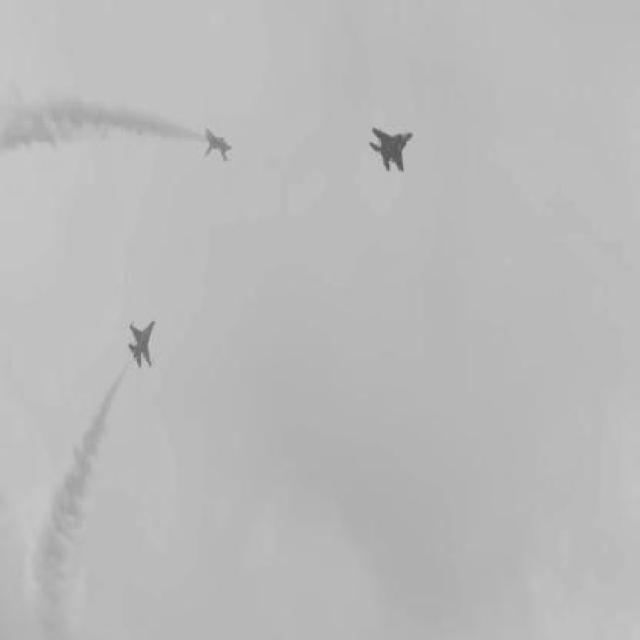Airplane: (369, 125, 413, 176), (129, 317, 156, 370), (203, 126, 234, 165)
